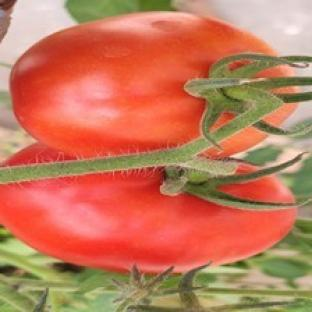Tomato: (12, 13, 274, 157), (0, 169, 296, 272)
